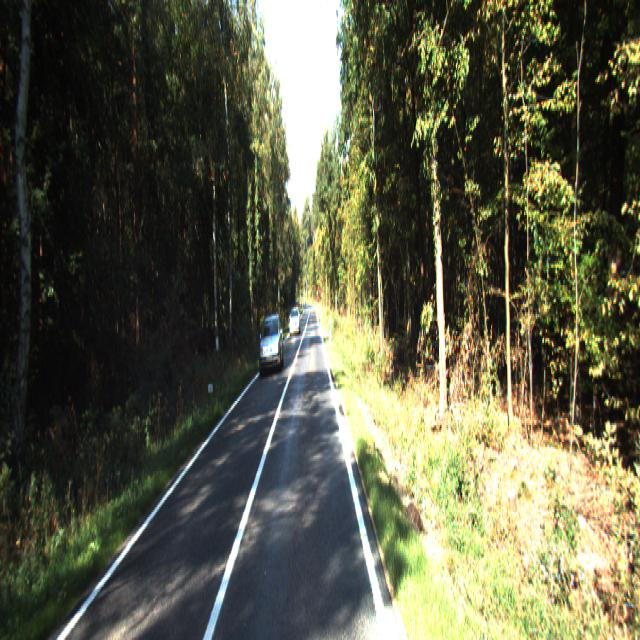Car: (256, 312, 284, 377), (289, 308, 301, 337)
